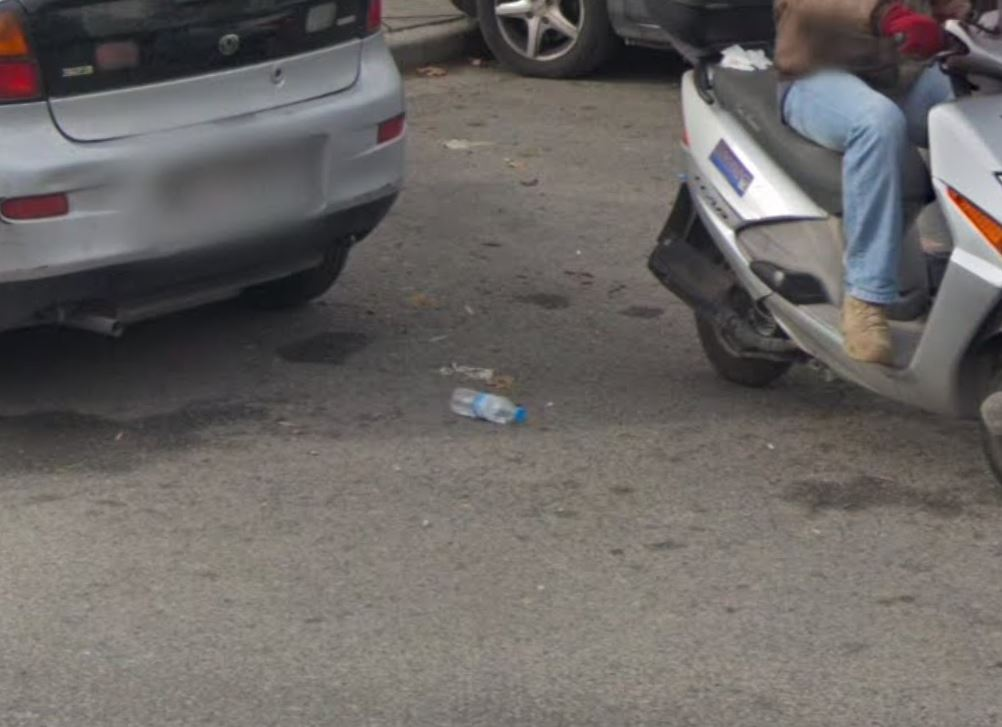trash: (447, 379, 532, 431)
